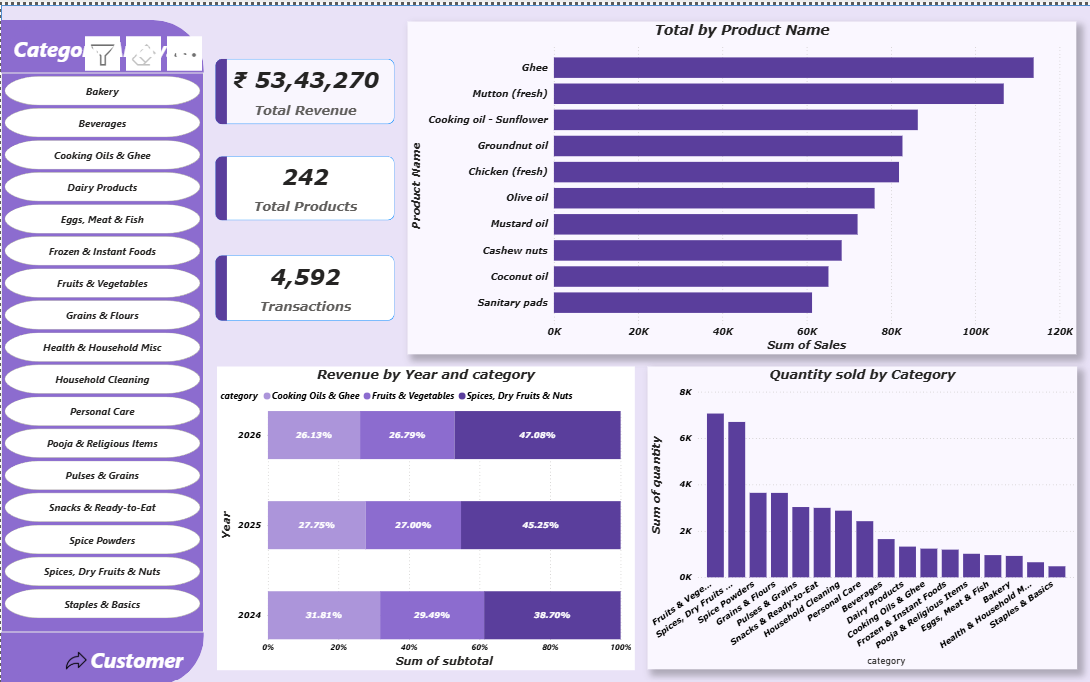

This screenshot's page, from the dashboard's own definition file:
{"tool":"powerbi","page":{"name":"Category Analysis","canvas":[1600,1000],"ordinal":1},"visuals":[{"type":"shape","box":[0,0,1600,1001.2],"z":0},{"type":"shape","box":[0,22.5,100,977.5],"z":1000},{"type":"shape","box":[0,22.5,297.5,977.5],"z":2000},{"type":"barChart","title":"Total by Product Name","fields":{"Category":["grocery_store products.product_name"],"Y":["Sum(grocery_store transaction_items.subtotal)"]},"box":[596.9,24.4,980.8,488.2],"z":4000},{"type":"columnChart","title":"Quantity sold by Category","fields":{"Category":["grocery_store products.category"],"Y":["Sum(grocery_store transaction_items.quantity)"]},"box":[947.5,530.3,630.2,443.8],"z":5000},{"type":"cardVisual","fields":{"Data":["grocery_store customers.Total Revenue"]},"box":[297.3,62.1,297.3,130.9],"z":6000},{"type":"advancedSlicerVisual","fields":{"Values":["grocery_store products.category"]},"box":[0,100,297.5,820],"z":7000},{"type":"cardVisual","fields":{"Data":["grocery_store customers.Total Products"]},"box":[297.3,204.1,297.3,128.7],"z":8000},{"type":"cardVisual","fields":{"Data":["grocery_store transactions.Transactions"]},"box":[297.3,350.6,297.3,130.9],"z":9000},{"type":"hundredPercentStackedBarChart","title":"Revenue by Year and category","fields":{"Y":["Sum(grocery_store transaction_items.subtotal)"],"Series":["grocery_store products.category"],"Category":["grocery_store transactions.transaction_datetime.Variation.Date Hierarchy.Year","grocery_store transactions.transaction_datetime.Variation.Date Hierarchy.Month"]},"box":[317.5,530,612.5,445],"z":10000},{"type":"actionButton","box":[50,920,297.5,80],"z":11000},{"type":"image","box":[64.4,937.8,93.3,48.9],"z":12000},{"type":"actionButton","box":[0,24.2,297.4,80],"z":12002}]}

Visuals, with their boxes in screenshot pixels (x1, y1, x2, y2), scaled from the page's 1600x1000 canvas onto the 1090x682 screenshot:
shape: locate(0, 0, 1089, 681)
shape: locate(0, 15, 68, 681)
shape: locate(0, 15, 203, 681)
"Total by Product Name" barChart: locate(407, 17, 1075, 350)
"Quantity sold by Category" columnChart: locate(645, 362, 1075, 664)
cardVisual - grocery_store customers.Total Revenue: locate(203, 42, 405, 132)
advancedSlicerVisual - grocery_store products.category: locate(0, 68, 203, 627)
cardVisual - grocery_store customers.Total Products: locate(203, 139, 405, 227)
cardVisual - grocery_store transactions.Transactions: locate(203, 239, 405, 328)
"Revenue by Year and category" hundredPercentStackedBarChart: locate(216, 361, 634, 665)
actionButton: locate(34, 627, 237, 681)
image: locate(44, 640, 107, 673)
actionButton: locate(0, 17, 203, 71)
